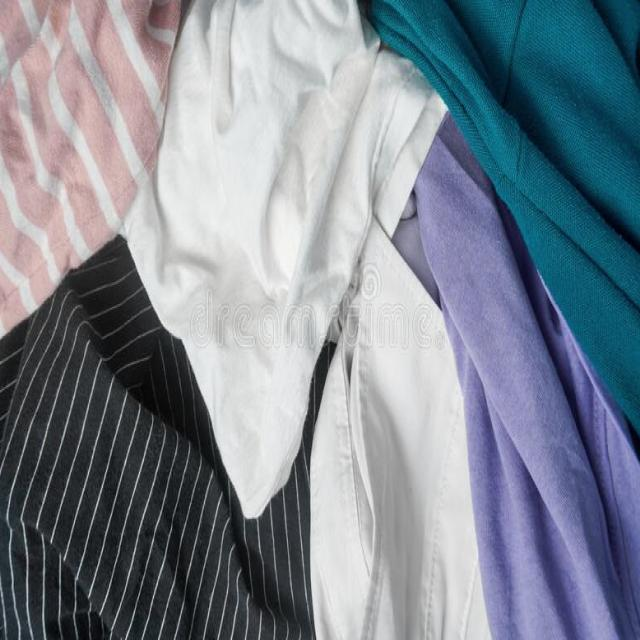clothes: (30, 19, 589, 608)
